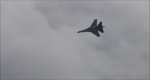maybay_muctieu: (76, 16, 106, 37)
